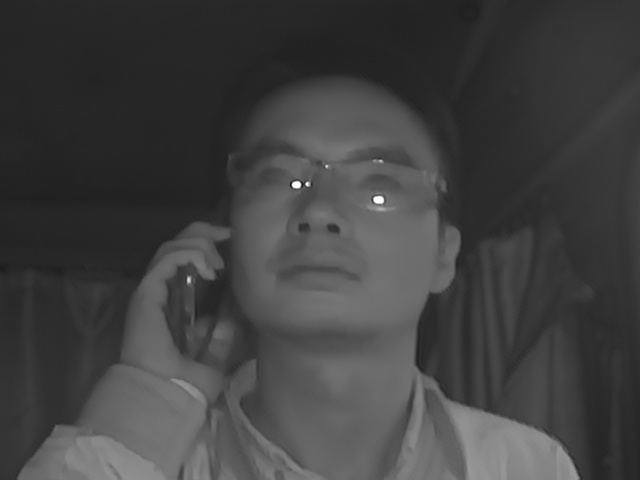hand: (123, 217, 241, 398)
